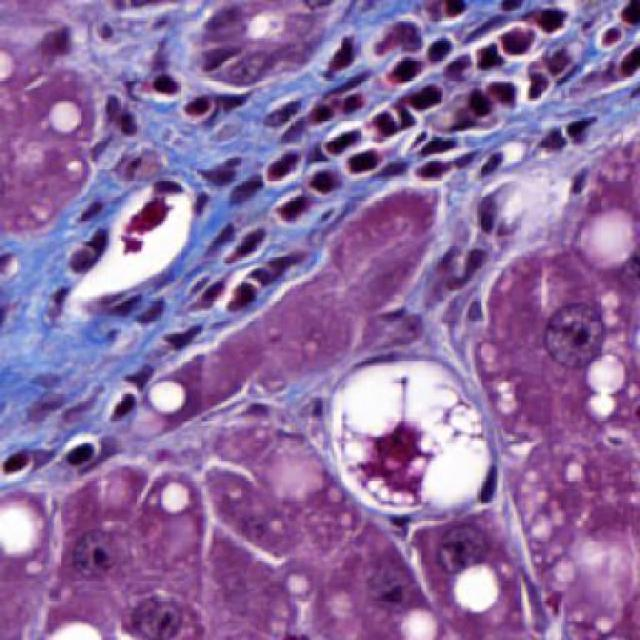ballooning: (322, 348, 496, 520)
